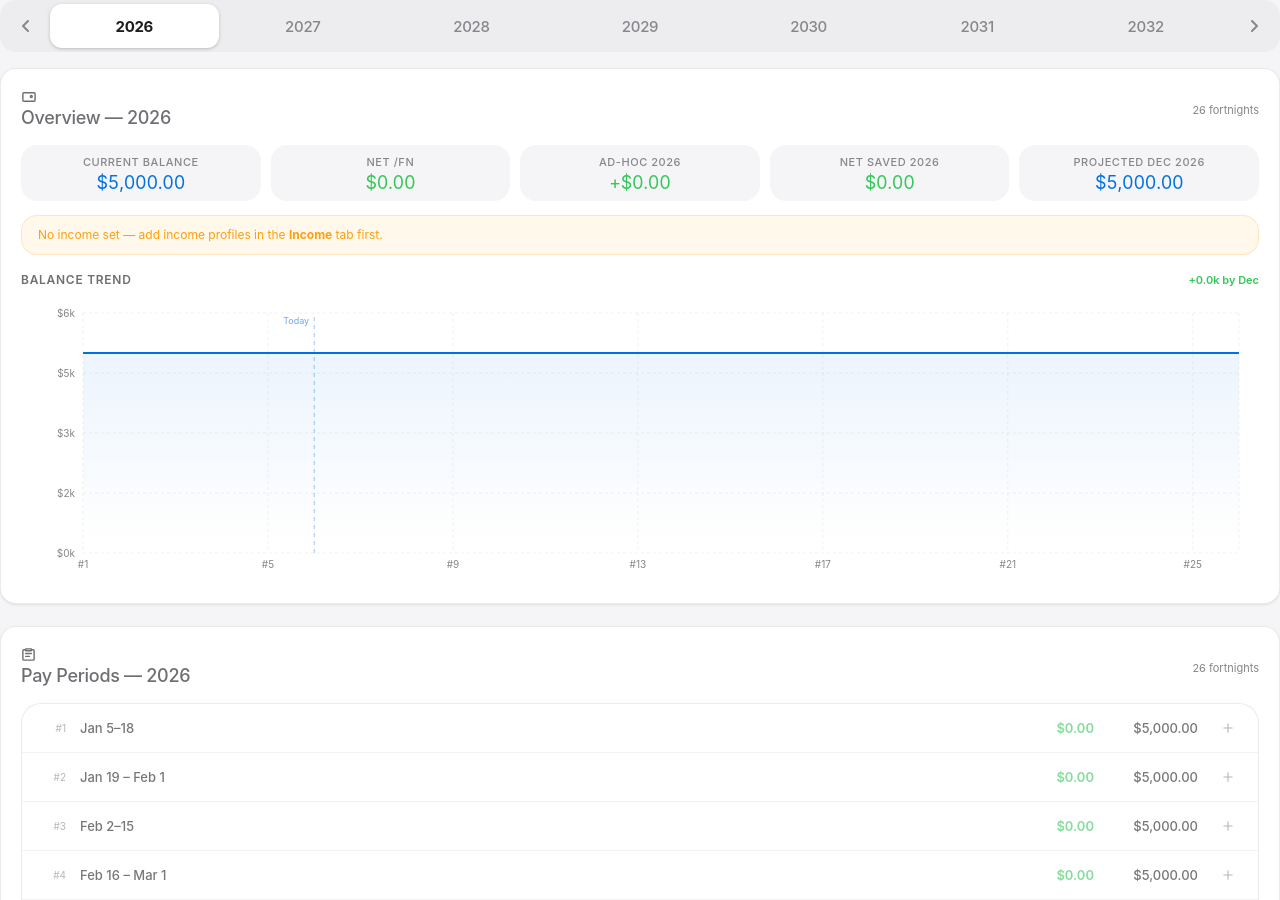
it: FinancialTracking — ad-hoc transaction modal › opens transaction modal when plus button is clicked
Step 1. Click the button with class "fn-add-btn" in the row of "Jan 5–18" → click(1228, 728), box left=1216, top=716, right=1240, bottom=740
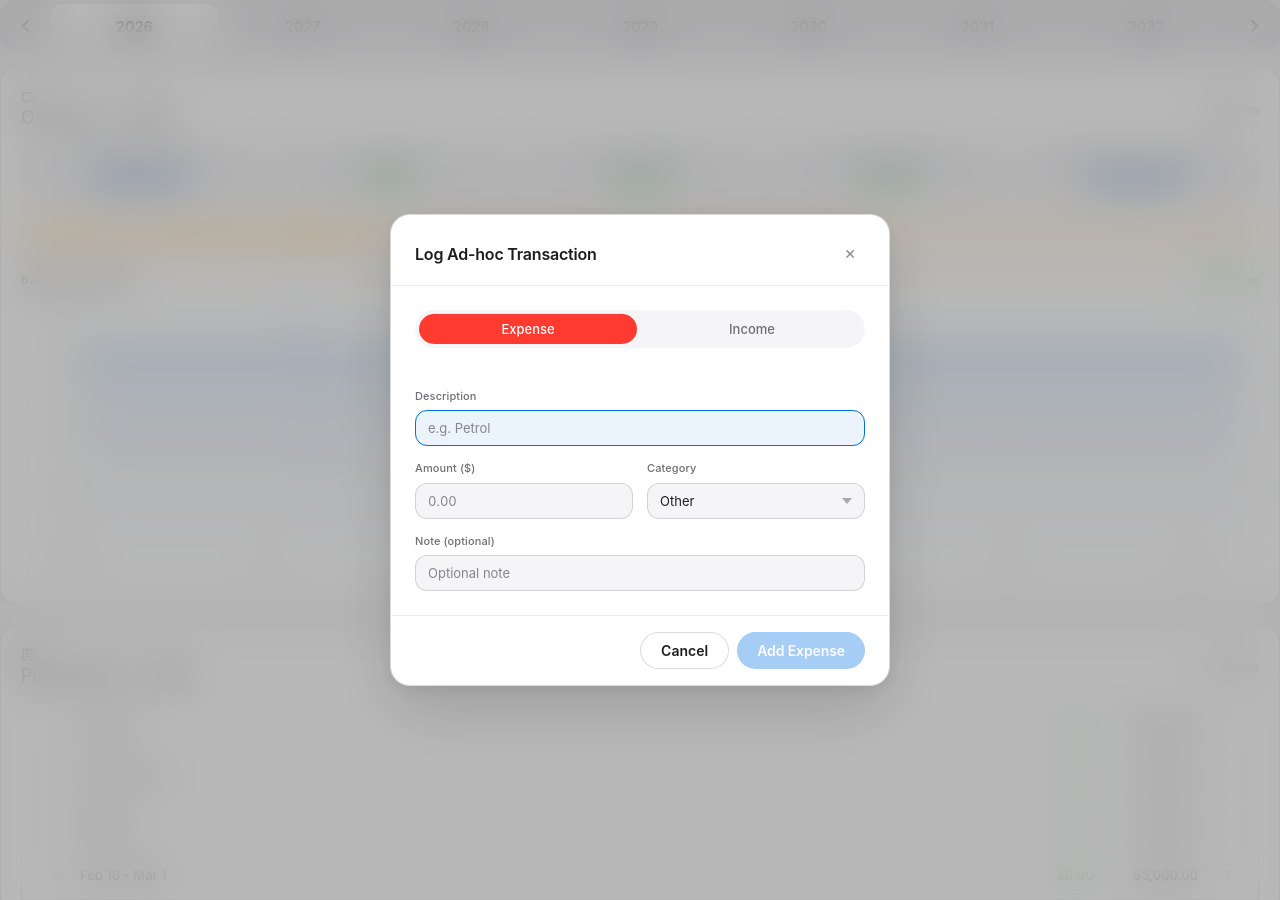
expect the heading "Log Ad-hoc Transaction" is shown: met, box left=415, top=242, right=597, bottom=266
